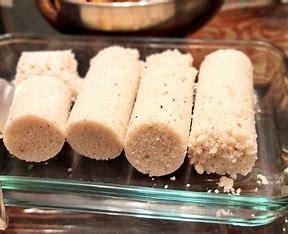Pittu: (11, 26, 271, 197)
